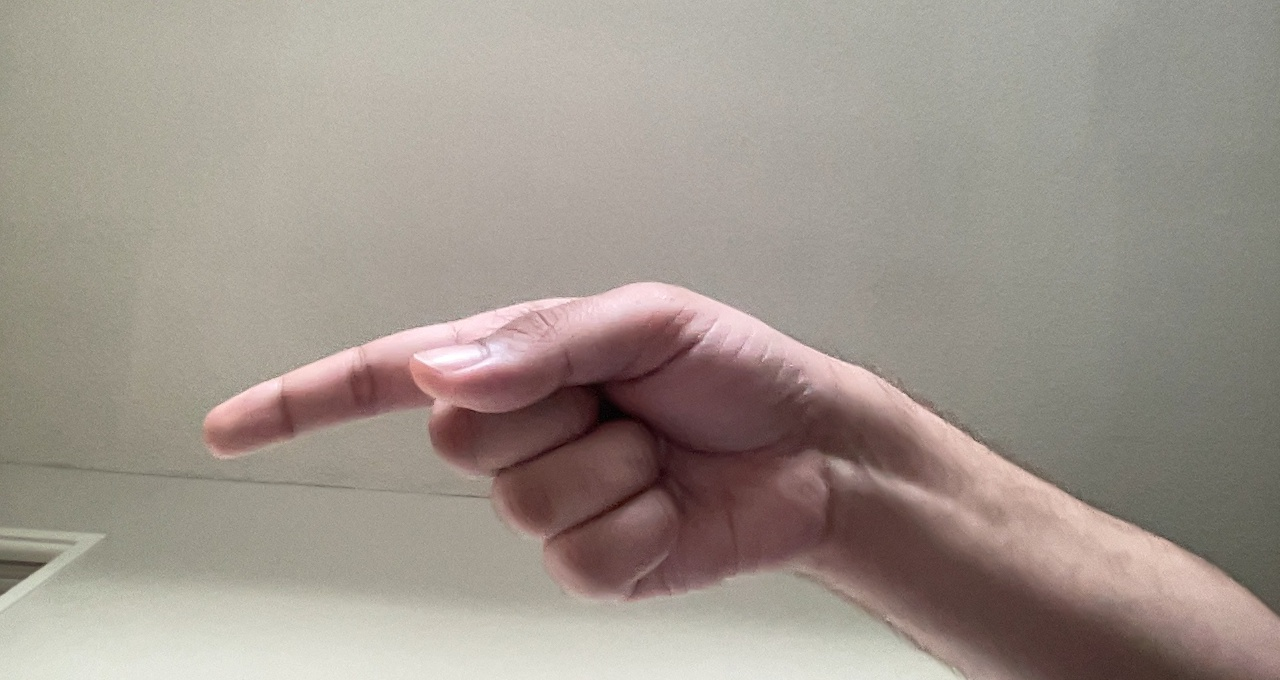fingerright: (191, 272, 852, 615)
